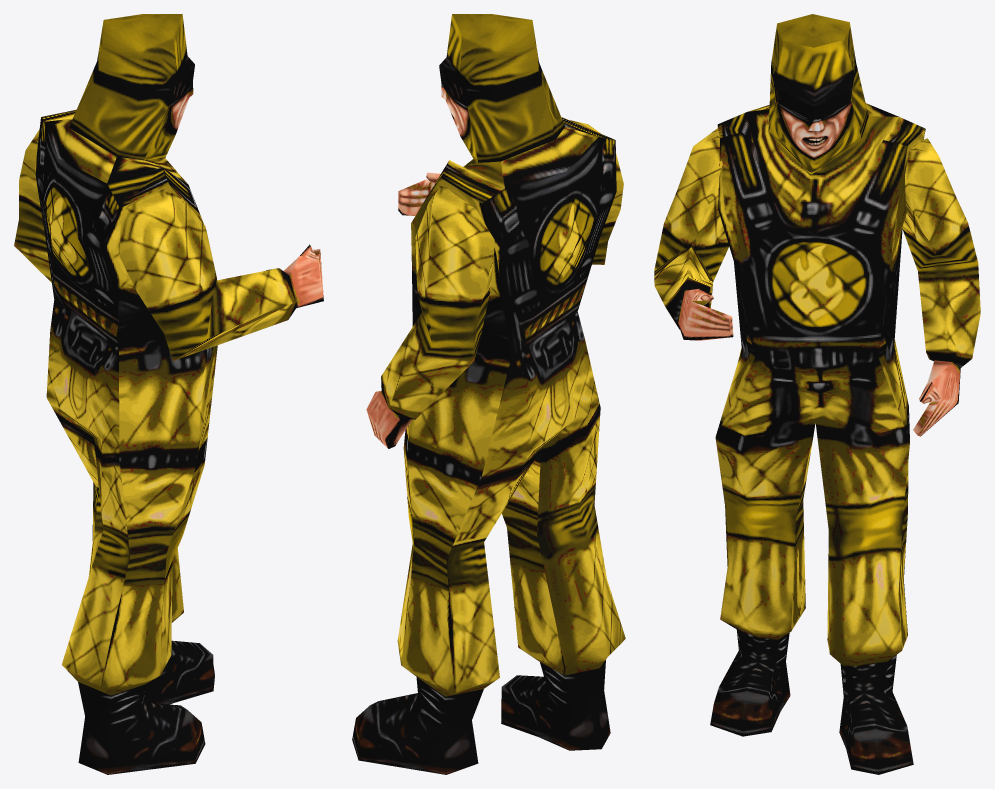
Rendered from pyro2_yellow.glb.
3 renders of one model, left to right at view 1: azimuth 30°, elevation 25°; view 2: azimuth 150°, elevation 25°; view 3: azimuth 270°, elevation 25°, orthographic. The views are drawn at different scales.
Parts seen in each view (by area): view 1: pyro2; view 2: pyro2; view 3: pyro2.
Part boxes in pixels (x1=…): pyro2: x1=14, y1=14, x2=323, y2=774; pyro2: x1=352, y1=14, x2=625, y2=774; pyro2: x1=654, y1=14, x2=980, y2=774.
Bounding box in the file's own units: 24.98 × 73.11 × 30.72.
Materials: 2 (2 with a texture image).
